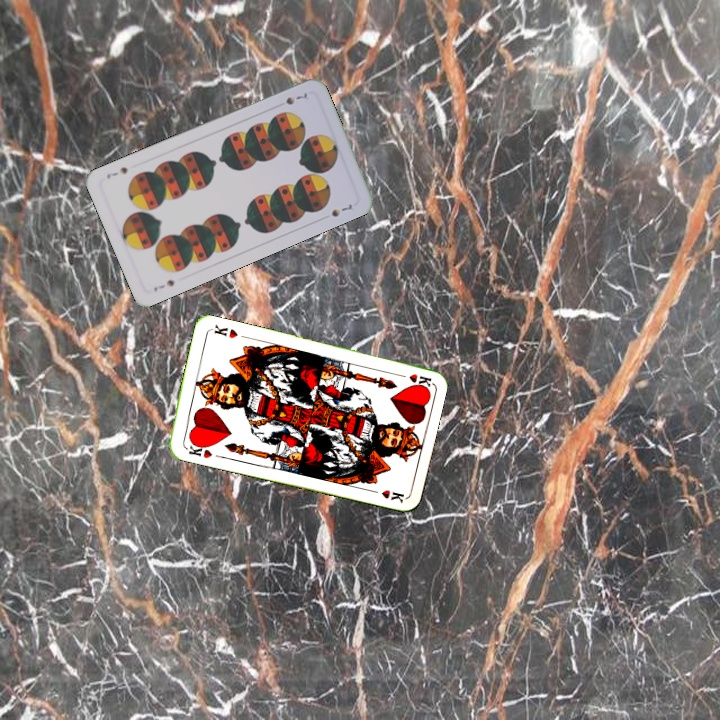HK: (392, 369, 433, 389), (184, 438, 215, 461)
S7: (282, 89, 310, 107), (150, 276, 177, 294)
